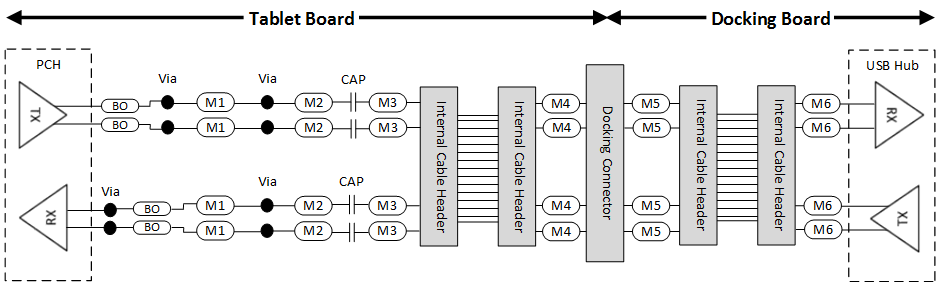capacitor: (348, 89, 359, 114), (348, 116, 359, 141), (347, 191, 358, 216), (347, 219, 358, 244)
circle: (256, 116, 278, 139), (255, 192, 277, 215), (255, 219, 277, 242), (254, 91, 279, 111), (98, 199, 120, 218), (98, 218, 120, 237), (159, 93, 176, 110), (160, 118, 177, 135)
dotted_rectangle: (842, 36, 940, 283), (2, 41, 96, 283)
oval: (193, 89, 235, 114), (193, 113, 235, 138), (292, 89, 334, 114), (291, 114, 333, 139), (366, 90, 408, 115), (366, 115, 408, 140), (365, 191, 407, 216), (365, 217, 407, 242), (292, 191, 334, 216), (292, 217, 334, 242), (193, 192, 235, 217), (194, 217, 236, 242), (539, 90, 581, 115), (539, 113, 581, 138), (538, 192, 580, 217), (538, 217, 580, 242), (629, 90, 671, 115), (631, 114, 673, 139), (628, 191, 670, 216), (628, 218, 670, 243), (799, 92, 841, 117), (799, 115, 841, 140), (802, 193, 844, 218), (801, 215, 843, 240), (99, 96, 143, 115), (99, 114, 143, 133), (130, 199, 172, 218), (130, 215, 172, 234)
rectangle: (581, 52, 628, 267), (674, 79, 723, 258), (415, 81, 461, 254), (495, 77, 541, 250), (754, 77, 798, 249)
triangle: (11, 76, 69, 150), (15, 180, 73, 254), (868, 78, 926, 152), (869, 180, 927, 254)
